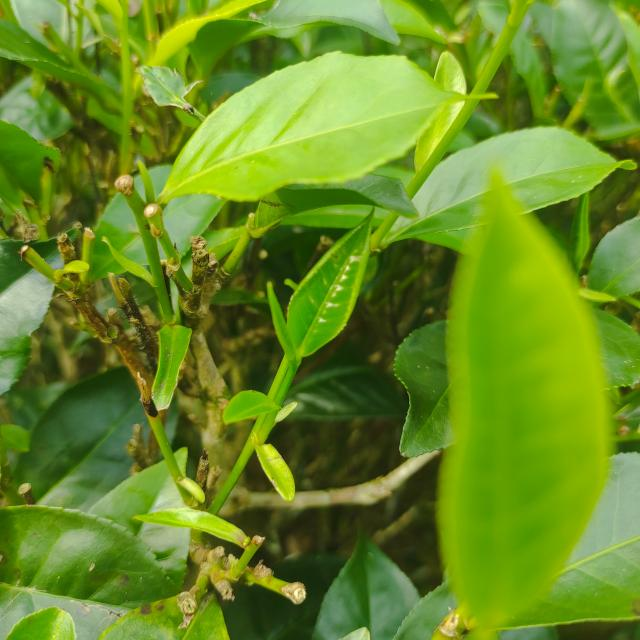unopened_leaf: (262, 275, 310, 374)
